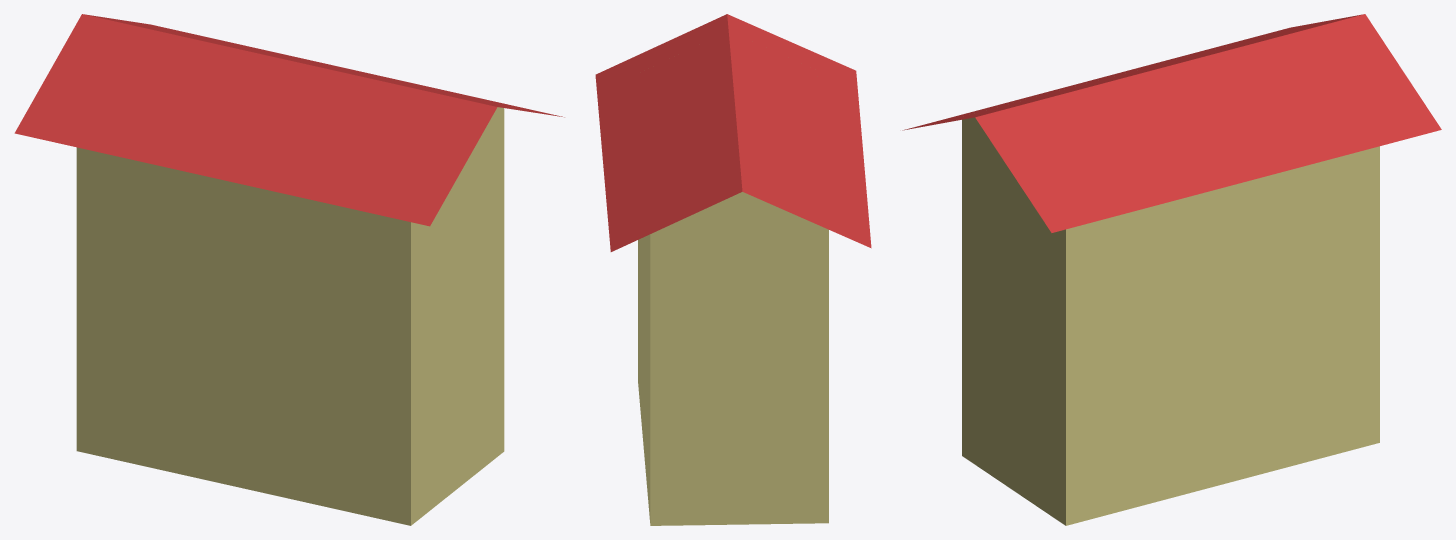
3 renders of one model, left to right at view 1: azimuth 30°, elevation 25°; view 2: azimuth 150°, elevation 25°; view 3: azimuth 270°, elevation 25°, orthographic. The views are drawn at different scales.
Size of the model in its own units: 8.11 by 9.03 by 7.04.
